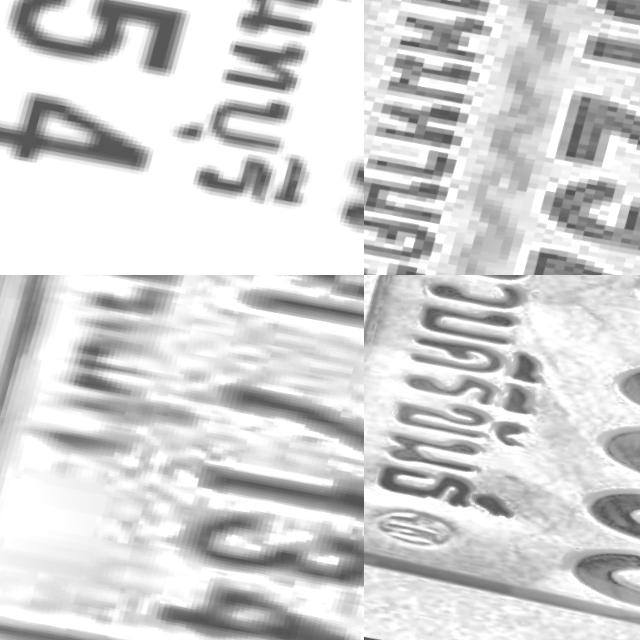license-plate: (0, 275, 364, 640), (364, 275, 640, 640), (0, 0, 364, 275), (364, 0, 640, 275)
